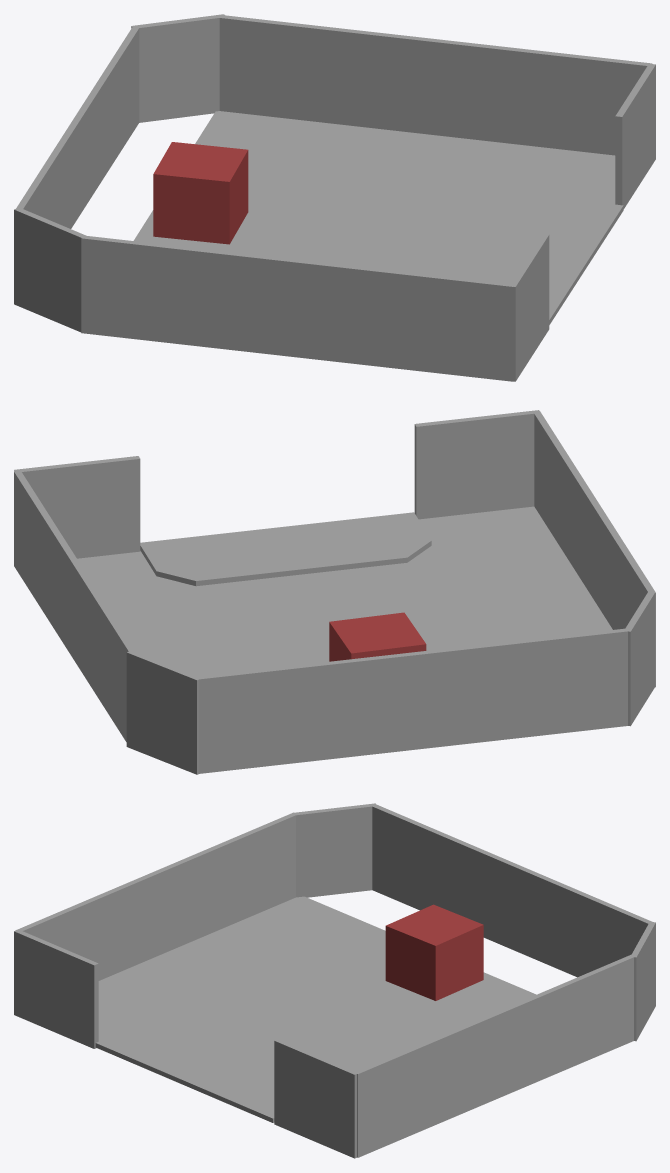
Rendered from BLOCK_Boss_room.fbx.
The picture shows the model from 3 angles, top to bottom: view 1: azimuth 30°, elevation 25°; view 2: azimuth 150°, elevation 25°; view 3: azimuth 270°, elevation 25°; orthographic projection. The views are drawn at different scales.
Visible parts, largest first — view 1: Boss_Floor, Wall_Boss_1, Wall_Boss_2, Wall_Boss_3, Boss, Platform, Wall_Boss_7, Wall_Boss_6, Wall_Boss_5, Wall_Boss_4; view 2: Boss_Floor, Wall_Boss_3, Platform, Wall_Boss_2, Wall_Boss_4, Wall_Boss_1, Wall_Boss_5, Wall_Boss_7, Boss, Wall_Boss_6; view 3: Boss_Floor, Wall_Boss_2, Wall_Boss_3, Wall_Boss_1, Platform, Boss, Wall_Boss_4, Wall_Boss_5, Wall_Boss_6, Wall_Boss_7.
Boxes of the visible parts, left/top/right/bottom form: Boss_Floor: left=133, top=111, right=615, bottom=278; Wall_Boss_1: left=81, top=235, right=513, bottom=381; Wall_Boss_2: left=219, top=15, right=652, bottom=155; Wall_Boss_3: left=16, top=26, right=139, bottom=228; Boss: left=153, top=142, right=248, bottom=244; Platform: left=470, top=197, right=623, bottom=324; Wall_Boss_7: left=131, top=14, right=225, bottom=122; Wall_Boss_6: left=14, top=207, right=87, bottom=332; Wall_Boss_5: left=615, top=63, right=655, bottom=208; Wall_Boss_4: left=509, top=233, right=549, bottom=381; Boss_Floor: left=77, top=506, right=612, bottom=676; Wall_Boss_3: left=196, top=628, right=627, bottom=773; Platform: left=140, top=512, right=431, bottom=586; Wall_Boss_2: left=14, top=471, right=136, bottom=741; Wall_Boss_4: left=414, top=410, right=540, bottom=519; Wall_Boss_1: left=533, top=411, right=655, bottom=687; Wall_Boss_5: left=14, top=456, right=140, bottom=558; Wall_Boss_7: left=126, top=650, right=201, bottom=774; Boss: left=329, top=612, right=426, bottom=661; Wall_Boss_6: left=624, top=591, right=654, bottom=726; Boss_Floor: left=98, top=896, right=536, bottom=1071; Wall_Boss_2: left=354, top=954, right=635, bottom=1157; Wall_Boss_3: left=372, top=804, right=653, bottom=977; Wall_Boss_1: left=15, top=812, right=297, bottom=980; Platform: left=95, top=1024, right=274, bottom=1122; Boss: left=385, top=904, right=483, bottom=1000; Wall_Boss_4: left=14, top=931, right=98, bottom=1048; Wall_Boss_5: left=274, top=1039, right=357, bottom=1158; Wall_Boss_6: left=293, top=803, right=376, bottom=897; Wall_Boss_7: left=632, top=922, right=655, bottom=1041.
Bounding box in the file's own units: 522 × 75.06 × 522.
